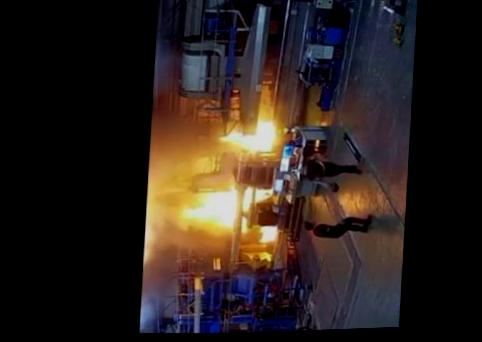fire: (147, 54, 302, 308)
